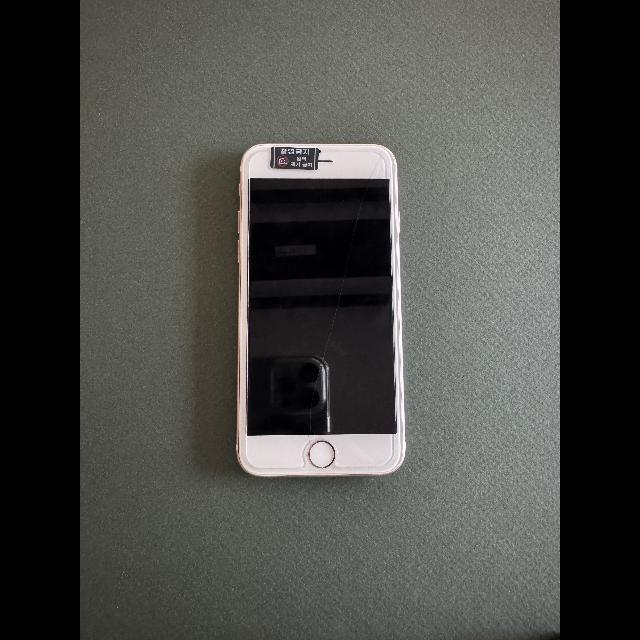lens: (319, 149, 321, 153)
phone: (236, 142, 405, 478)
sticker: (269, 145, 319, 171)
